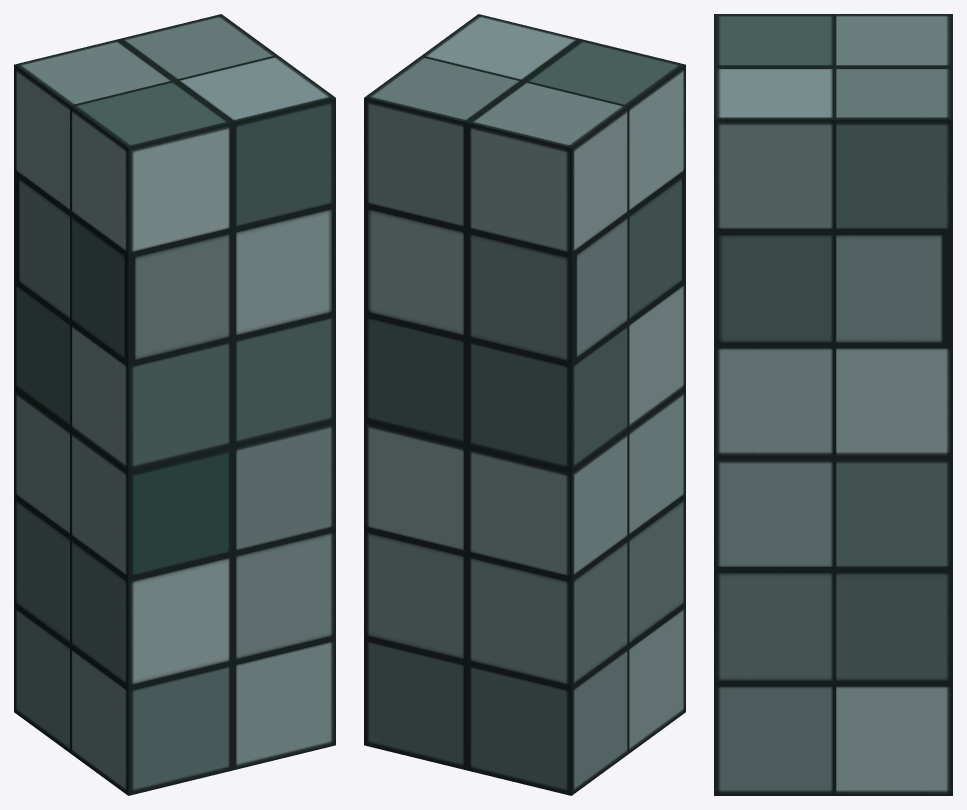
The model's file is m_brick_pillar.glb.
3 renders of one model, left to right at view 1: azimuth 30°, elevation 25°; view 2: azimuth 150°, elevation 25°; view 3: azimuth 270°, elevation 25°, orthographic. The views are drawn at different scales.
Parts seen in each view (by area): view 1: M_BricksPillar; view 2: M_BricksPillar; view 3: M_BricksPillar.
Part boxes in pixels (box(x1,y1,x2,y2)): M_BricksPillar: box(14, 14, 335, 795); M_BricksPillar: box(364, 14, 685, 795); M_BricksPillar: box(714, 14, 952, 795).
Bounding box in the file's own units: 0.6705 × 2 × 0.6404.
1 material, 1 textured.
